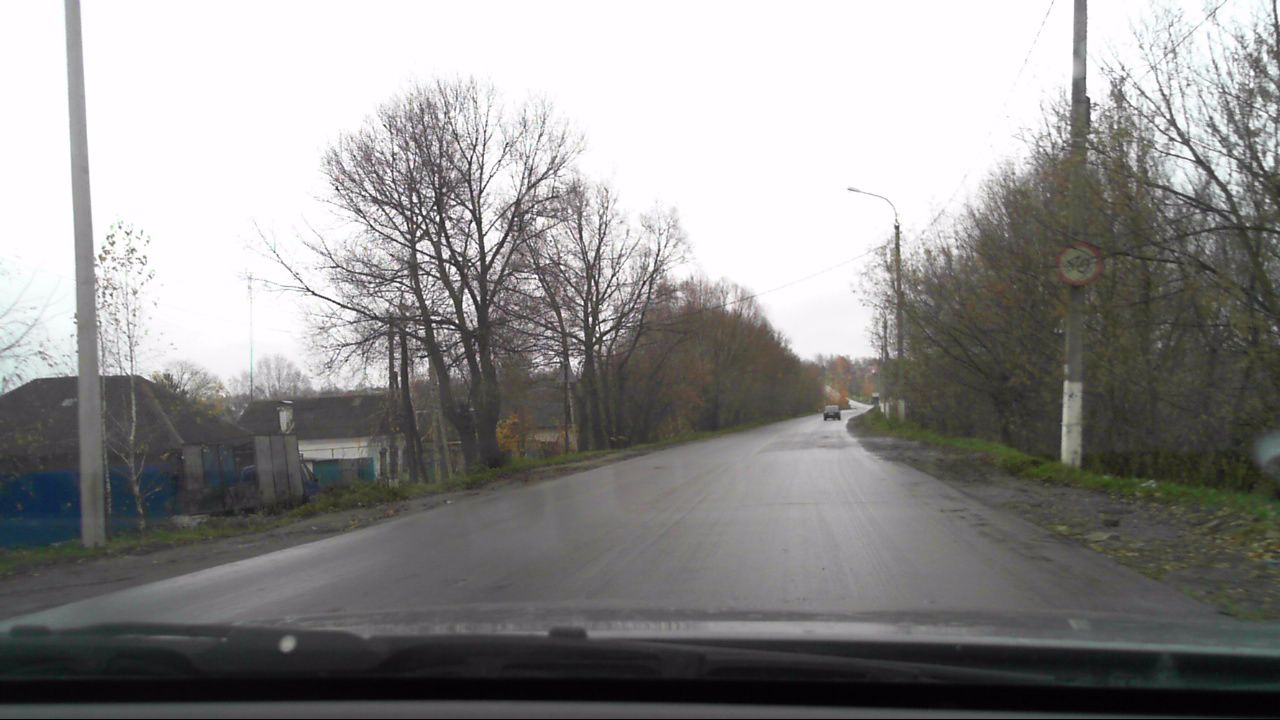speed_warning_40: (1054, 242, 1103, 288)
